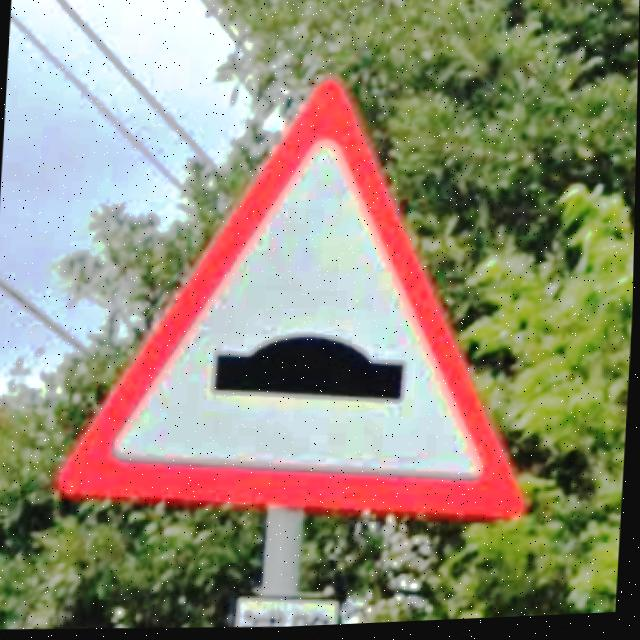hump: (60, 79, 526, 524)
